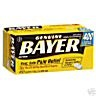grozi_24: (2, 23, 94, 73)
